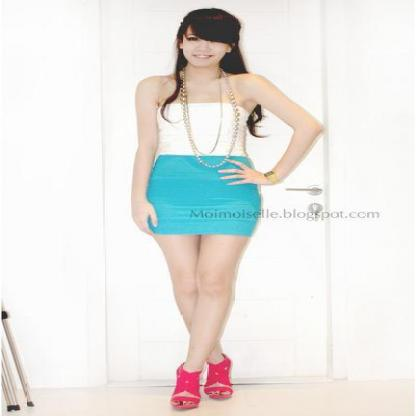shirt: (158, 102, 264, 158)
shoe: (171, 358, 236, 411)
skirt: (146, 154, 259, 236)
